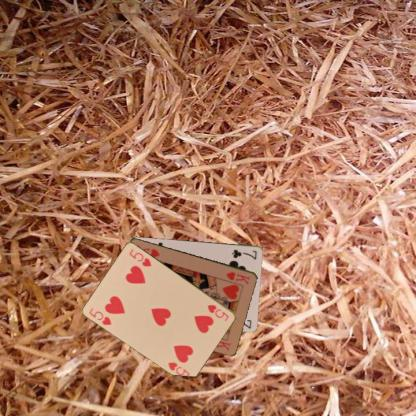5h: (205, 302, 231, 322), (87, 306, 113, 326)
7c: (230, 246, 258, 260)
Kh: (224, 270, 251, 286)
